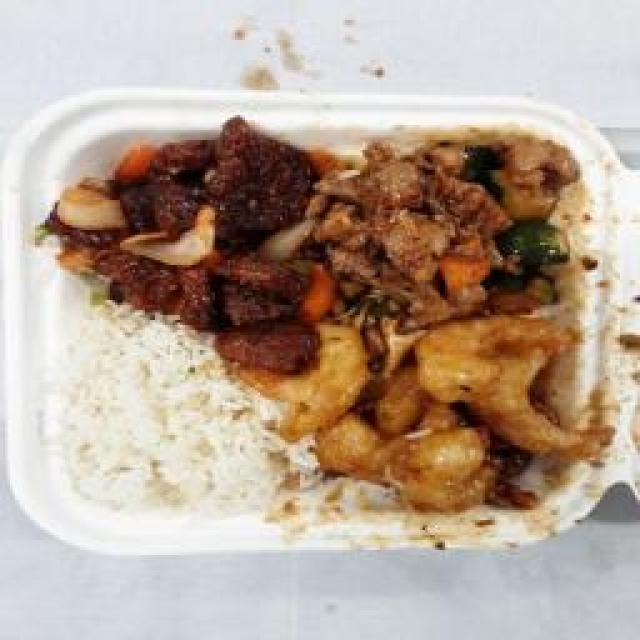Wet Waste: (282, 305, 602, 520), (305, 128, 583, 332), (45, 120, 327, 318), (52, 318, 288, 518)
